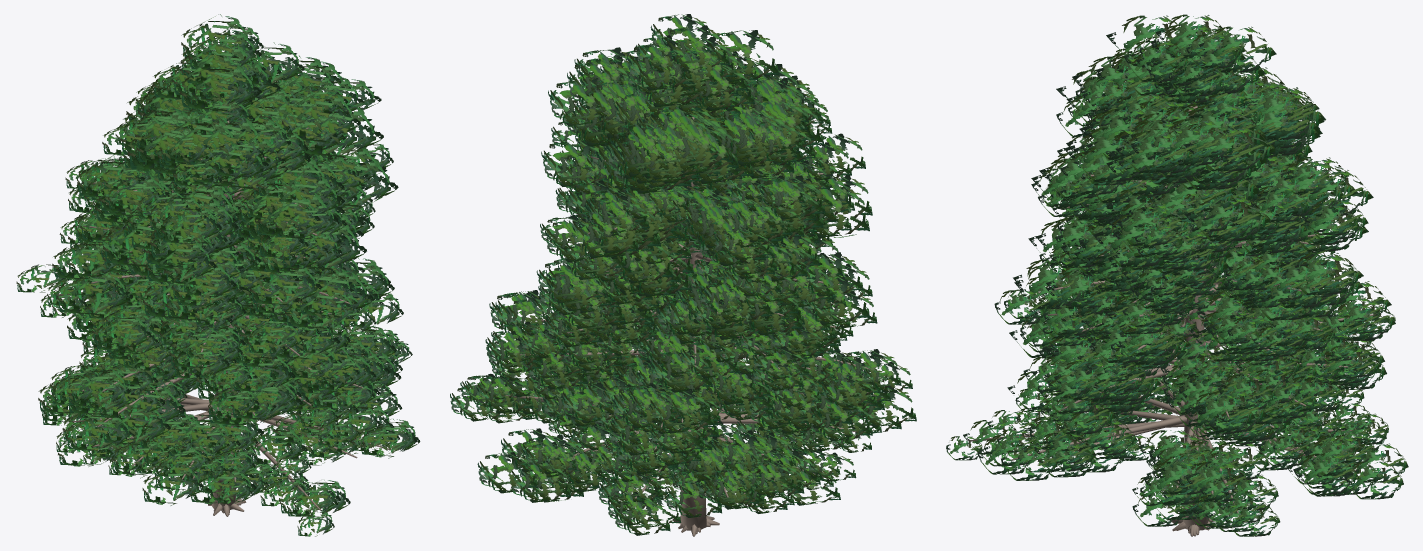
File: pine.glb
3 views of the same model, side by side, from view 1: azimuth 30°, elevation 25°; view 2: azimuth 150°, elevation 25°; view 3: azimuth 270°, elevation 25° (orthographic). The views are drawn at different scales.
Visible parts, largest first — view 1: PineTree_2, PineTree_3, PineTree_1, PineTree_4, PineTree_5; view 2: PineTree_2, PineTree_3, PineTree_4, PineTree_5, PineTree_1; view 3: PineTree_2, PineTree_5, PineTree_3, PineTree_1, PineTree_4.
Part boxes in pixels (left/top/right/bottom): PineTree_2: left=38, top=48, right=401, bottom=513; PineTree_3: left=16, top=14, right=402, bottom=536; PineTree_1: left=41, top=40, right=420, bottom=514; PineTree_4: left=47, top=55, right=394, bottom=515; PineTree_5: left=42, top=35, right=403, bottom=511; PineTree_2: left=522, top=30, right=878, bottom=517; PineTree_3: left=510, top=25, right=916, bottom=535; PineTree_4: left=489, top=51, right=912, bottom=532; PineTree_5: left=477, top=43, right=901, bottom=532; PineTree_1: left=450, top=14, right=881, bottom=536; PineTree_2: left=1007, top=15, right=1380, bottom=530; PineTree_5: left=994, top=43, right=1408, bottom=535; PineTree_3: left=946, top=14, right=1388, bottom=533; PineTree_1: left=984, top=24, right=1377, bottom=536; PineTree_4: left=1028, top=36, right=1395, bottom=536.
Bounding box in the file's own units: 4.96 × 5.7 × 4.68.
2 materials, 1 textured.
